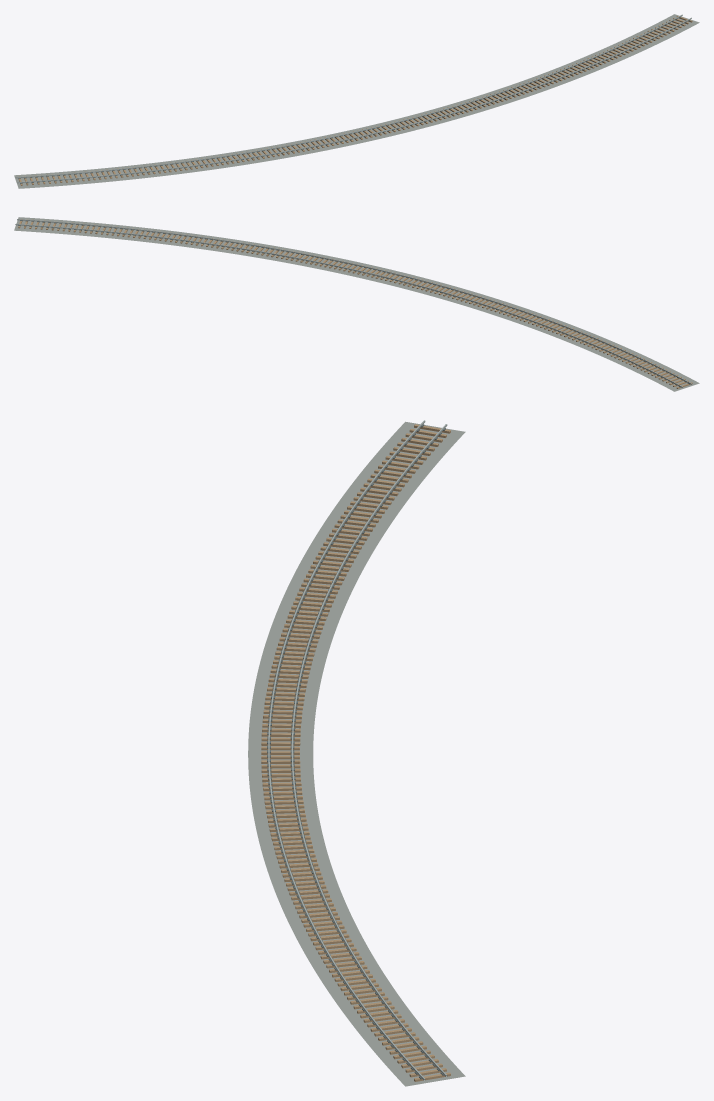
Rendered from SM_Railway.fbx.
3 renders of one model, top to bottom at view 1: azimuth 30°, elevation 25°; view 2: azimuth 150°, elevation 25°; view 3: azimuth 270°, elevation 25°, orthographic. The views are drawn at different scales.
Parts seen in each view (by area): view 1: SM_Railway; view 2: SM_Railway; view 3: SM_Railway.
Boxes of the visible parts, x1,y1,x2,y2 form: SM_Railway: (14, 14, 699, 188); SM_Railway: (14, 217, 699, 391); SM_Railway: (248, 420, 465, 1086).
Bounding box in the file's own units: 10155 × 1405 × 33.5.
